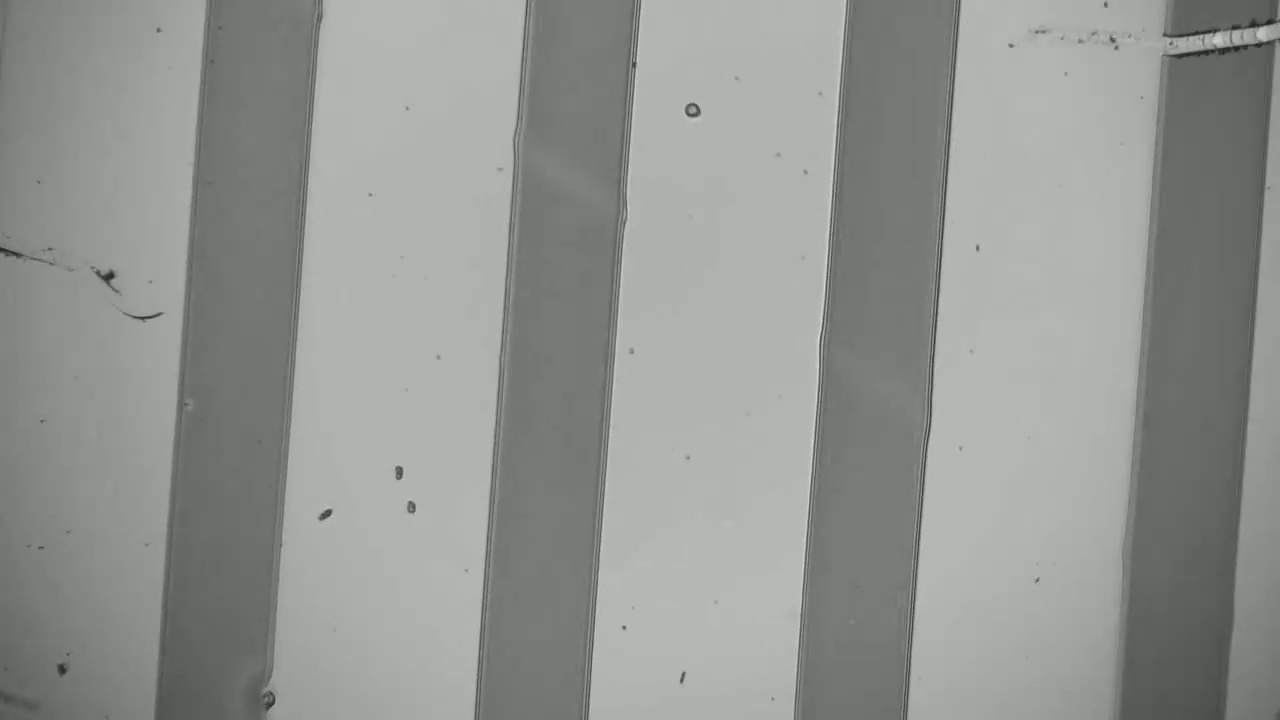Short_circuit: (1132, 10, 1280, 90)
